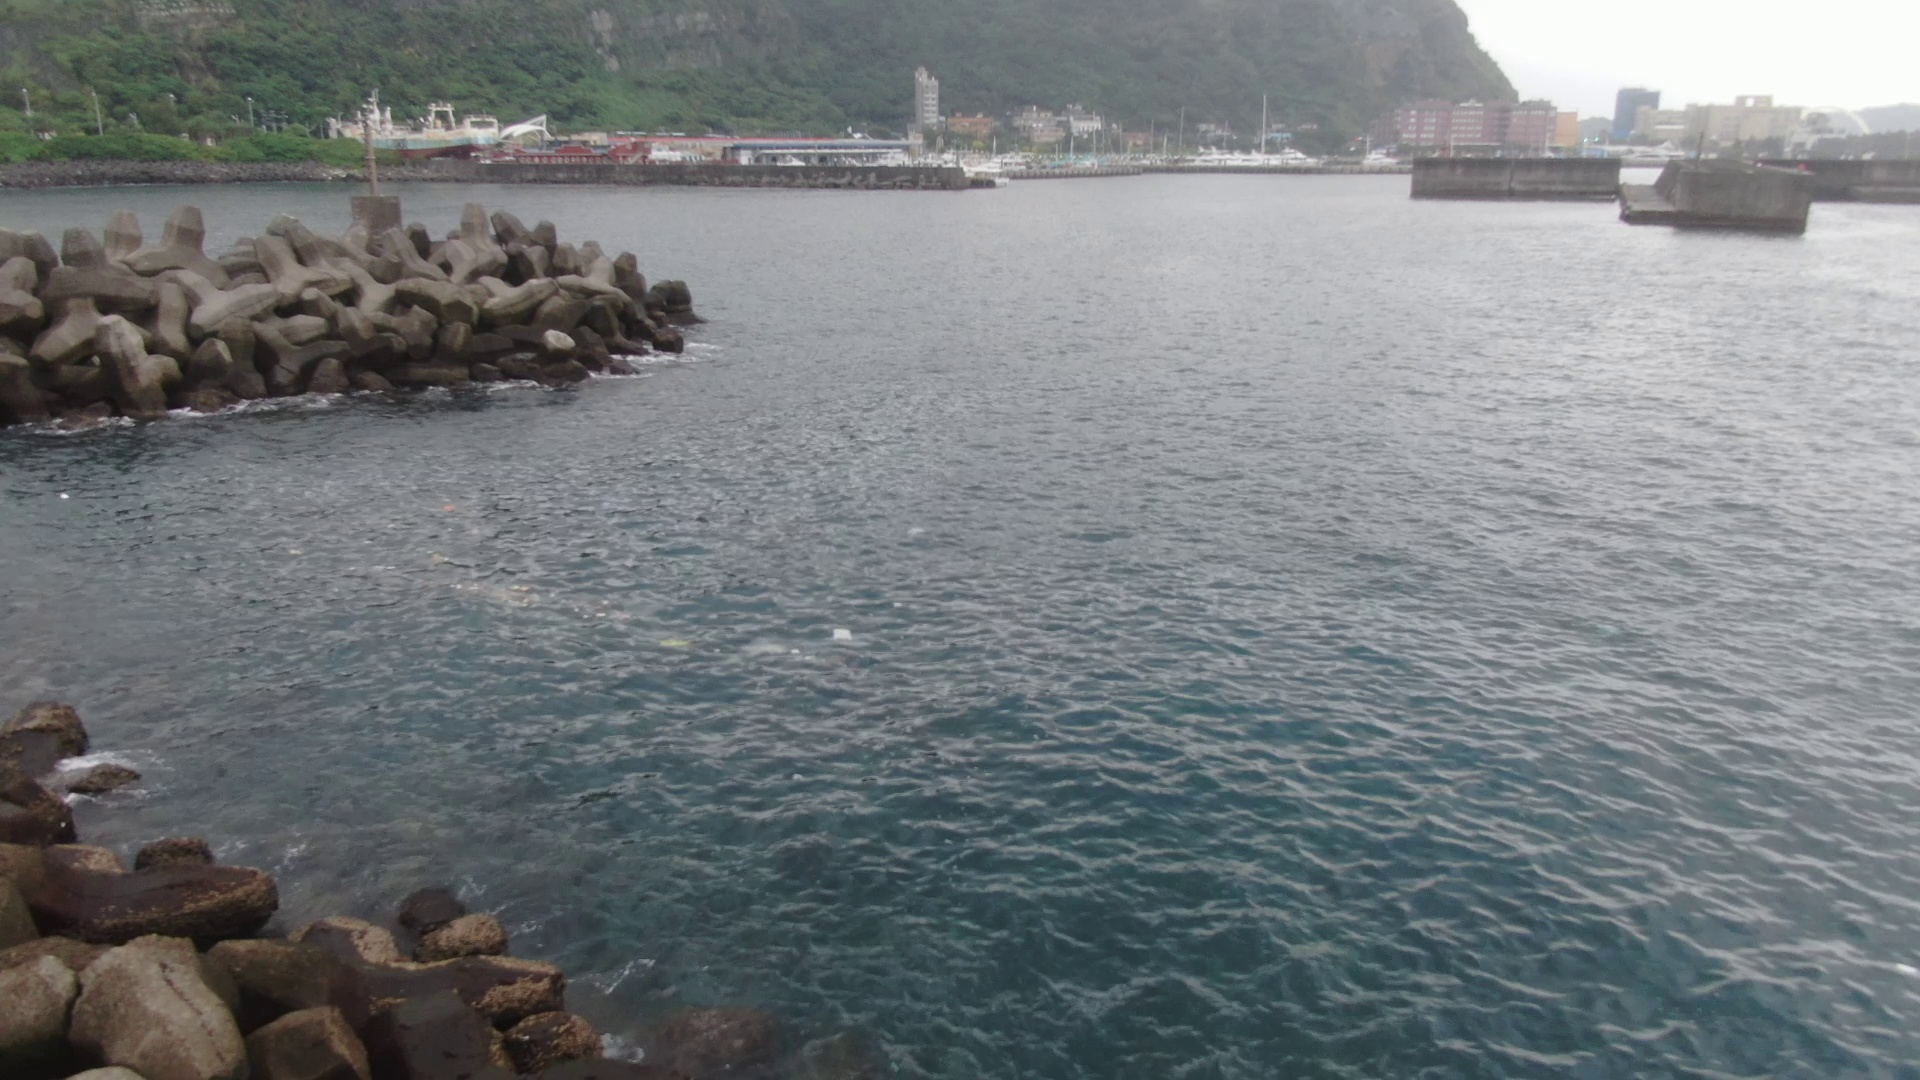garbage: (823, 622, 866, 649)
